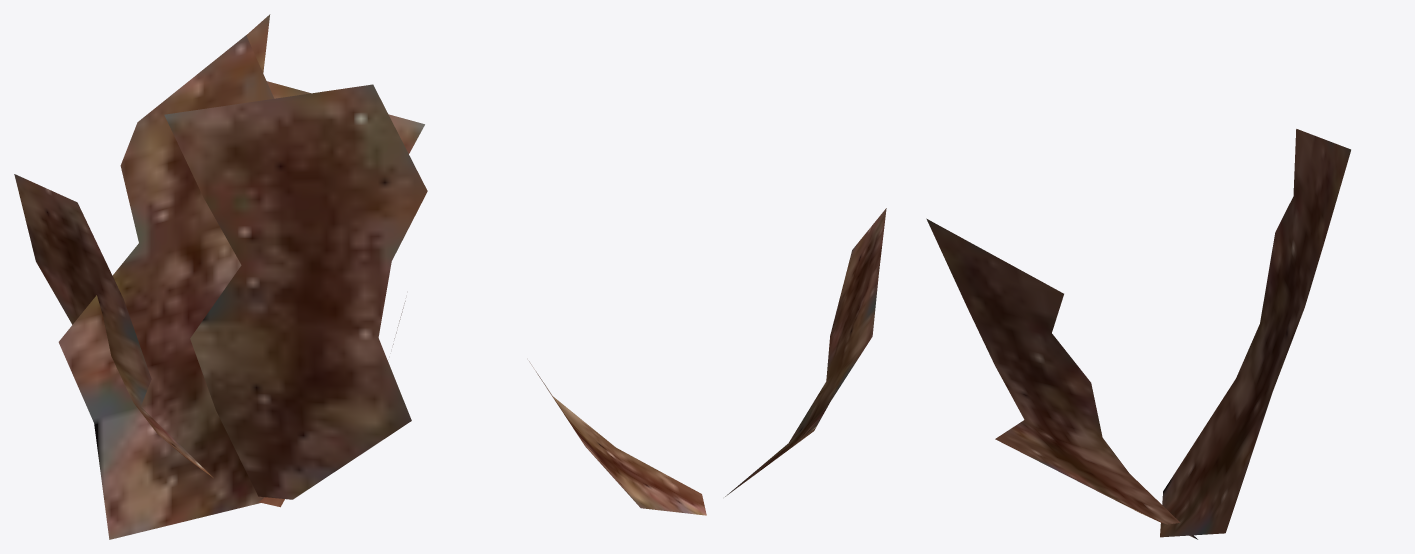
The model's file is Seaweed_F10-transformed.glb.
3 renders of one model, left to right at view 1: azimuth 30°, elevation 25°; view 2: azimuth 150°, elevation 25°; view 3: azimuth 270°, elevation 25°, orthographic. The views are drawn at different scales.
Parts seen in each view (by area): view 1: Seaweed_F10; view 2: Seaweed_F10; view 3: Seaweed_F10.
Boxes of the visible parts, bbox=[...] form: Seaweed_F10: bbox=[14, 14, 427, 539]; Seaweed_F10: bbox=[529, 208, 886, 515]; Seaweed_F10: bbox=[926, 129, 1350, 539].
Size of the model in its own units: 0.1693 by 0.1855 by 0.1574.
1 material, 1 textured.
